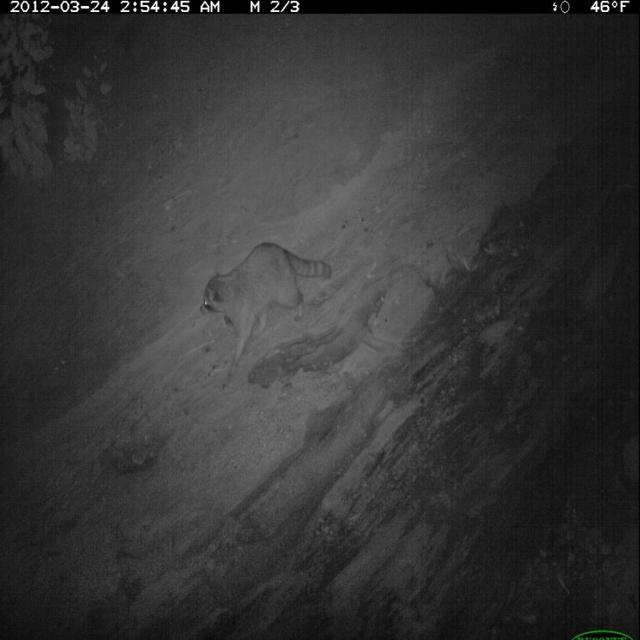raccoon: (197, 237, 337, 385)
